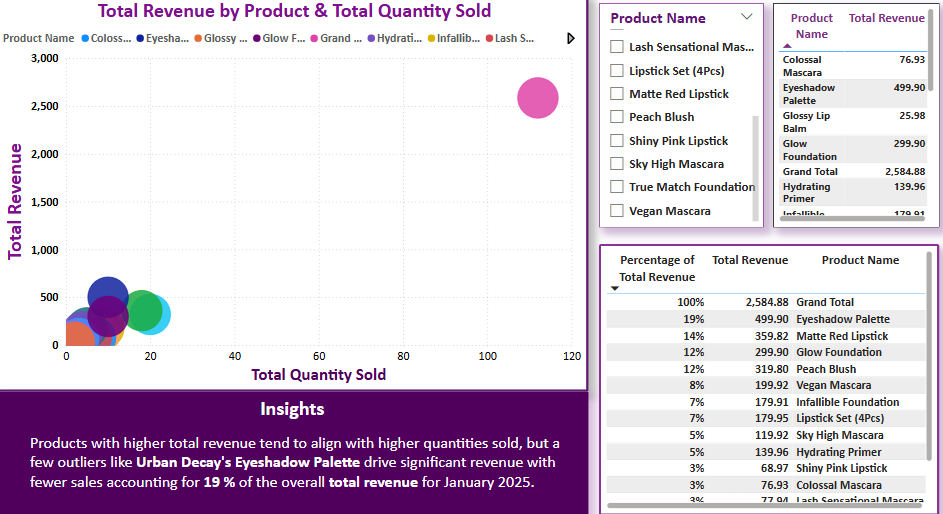

What the dashboard file says about the page in this screenshot:
{"tool":"powerbi","page":{"name":"Product Insights","canvas":[1280,720],"ordinal":13},"visuals":[{"type":"scatterChart","title":"Total Revenue by Product  & Total Quantity Sold ","fields":{"X":["Product Insights (2).Total Quantity Sold"],"Y":["Product Insights (2).Total Revenue"],"Series":["Product Insights (2).Product Name"],"Size":["CountNonNull(Product Insights (2).Total Revenue)"]},"box":[10.5,0,787.2,527.3],"z":0},{"type":"slicer","fields":{"Values":["Product Insights (2).Product Name"]},"box":[811.7,10.6,219.2,297.6],"z":1000},{"type":"tableEx","fields":{"Values":["Product Insights (2).Product Name","Product Insights (2).Total Revenue"]},"box":[1042.8,10.6,220.5,297.6],"z":2000},{"type":"textbox","box":[10,527,787,164],"z":3000},{"type":"tableEx","fields":{"Values":["Product Insights (2).Percentage of Total Revenue","Product Insights (2).Total Revenue","Product Insights (2).Product Name"]},"box":[811.7,330.8,451.7,361.3],"z":4000}]}

Visuals, with their boxes on the page's 1280x720 design canvas (x1, y1, x2, y2). These are canvas units, not pixel positions in the 943x514 screenshot, which may show the page scaled, cropped or inside an application window:
"Total Revenue by Product  & Total Quantity Sold " scatterChart: select_region(10, 0, 798, 527)
slicer - Product Insights (2).Product Name: select_region(812, 11, 1031, 308)
tableEx - Product Insights (2).Product Name x Product Insights (2).Total Revenue: select_region(1043, 11, 1263, 308)
textbox: select_region(10, 527, 797, 691)
tableEx - Product Insights (2).Percentage of Total Revenue x Product Insights (2).Total Revenue: select_region(812, 331, 1263, 692)
